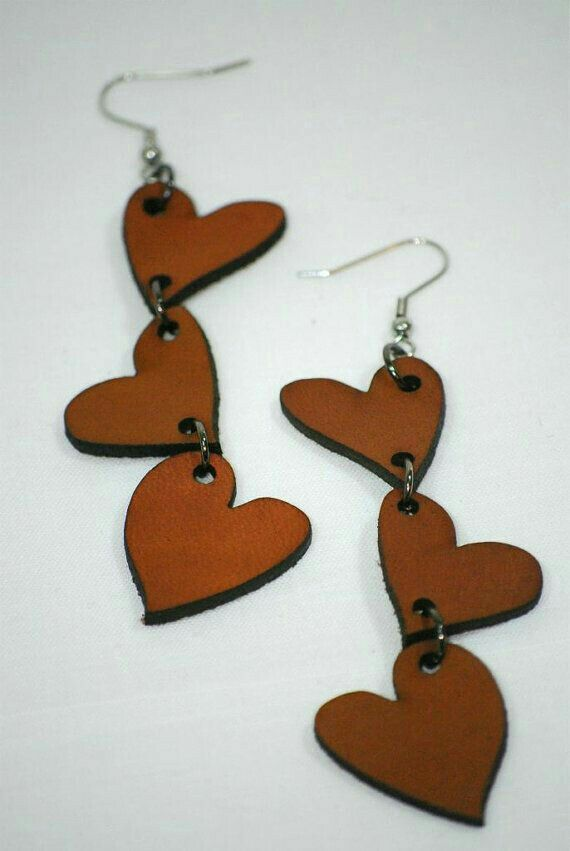cuero: (64, 183, 543, 829)
